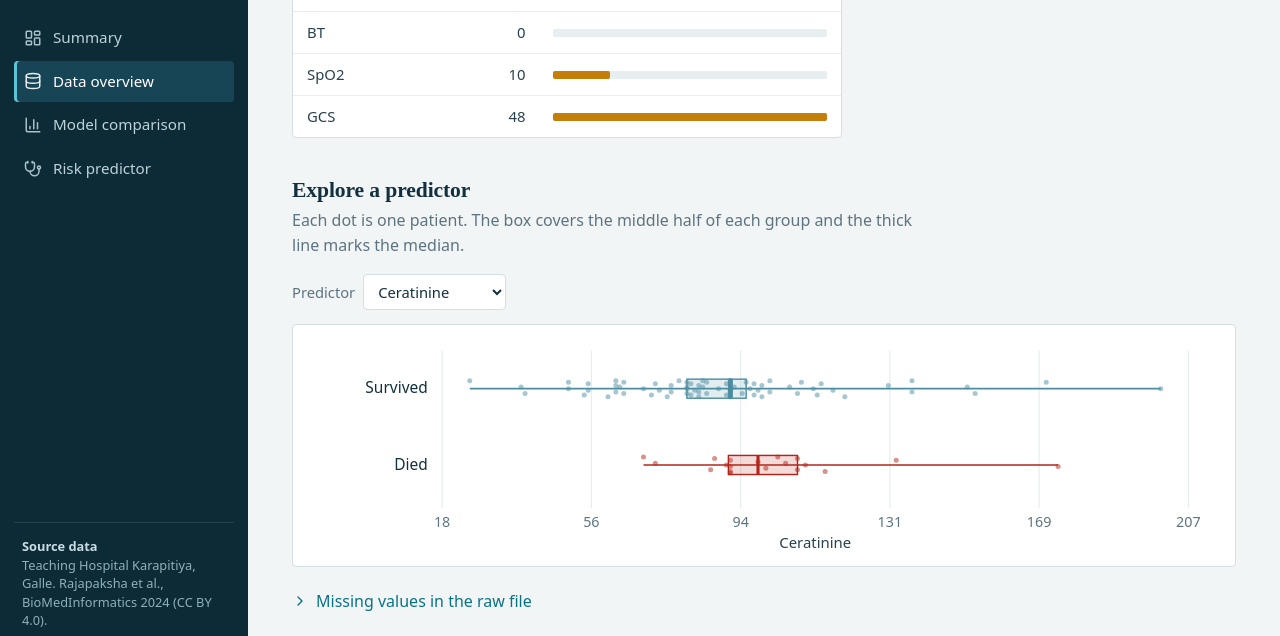
Test case: data overview renders cohort, cleaning and feature explorer
(page scrolled)
Select "HR_mean" in the dropdown labelled "Predictor" at (435, 292), box [363,274,506,310]
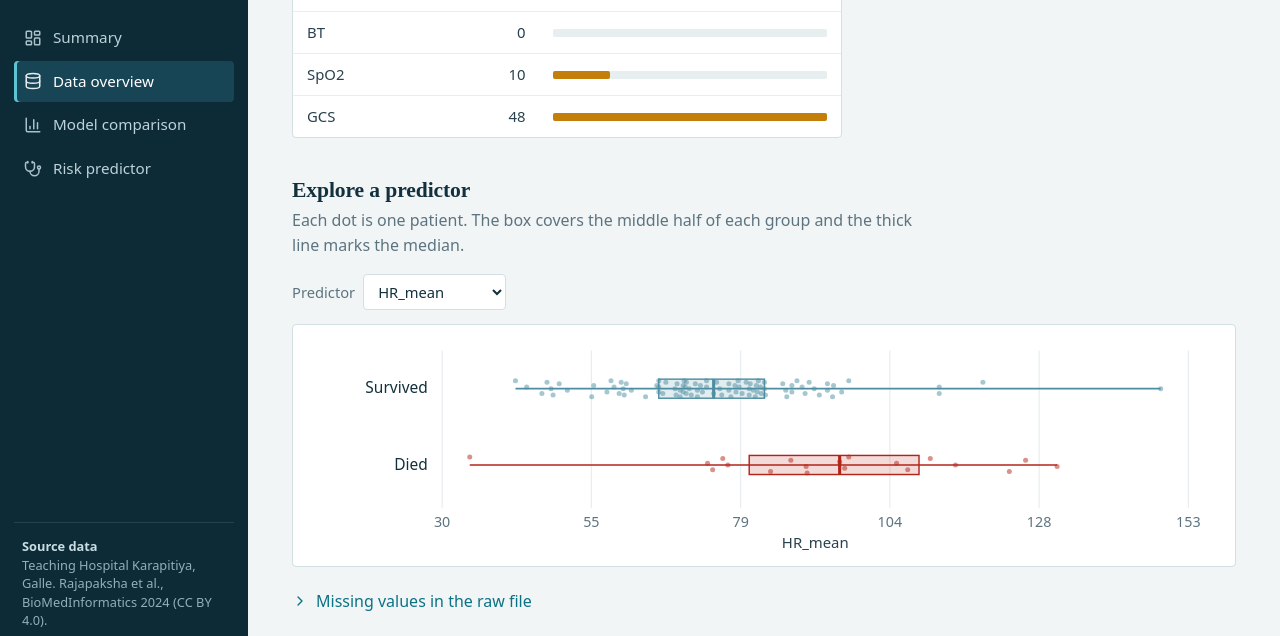
Result: the picture named "Distribution of HR_mean" is shown at [311,341,1217,556]
